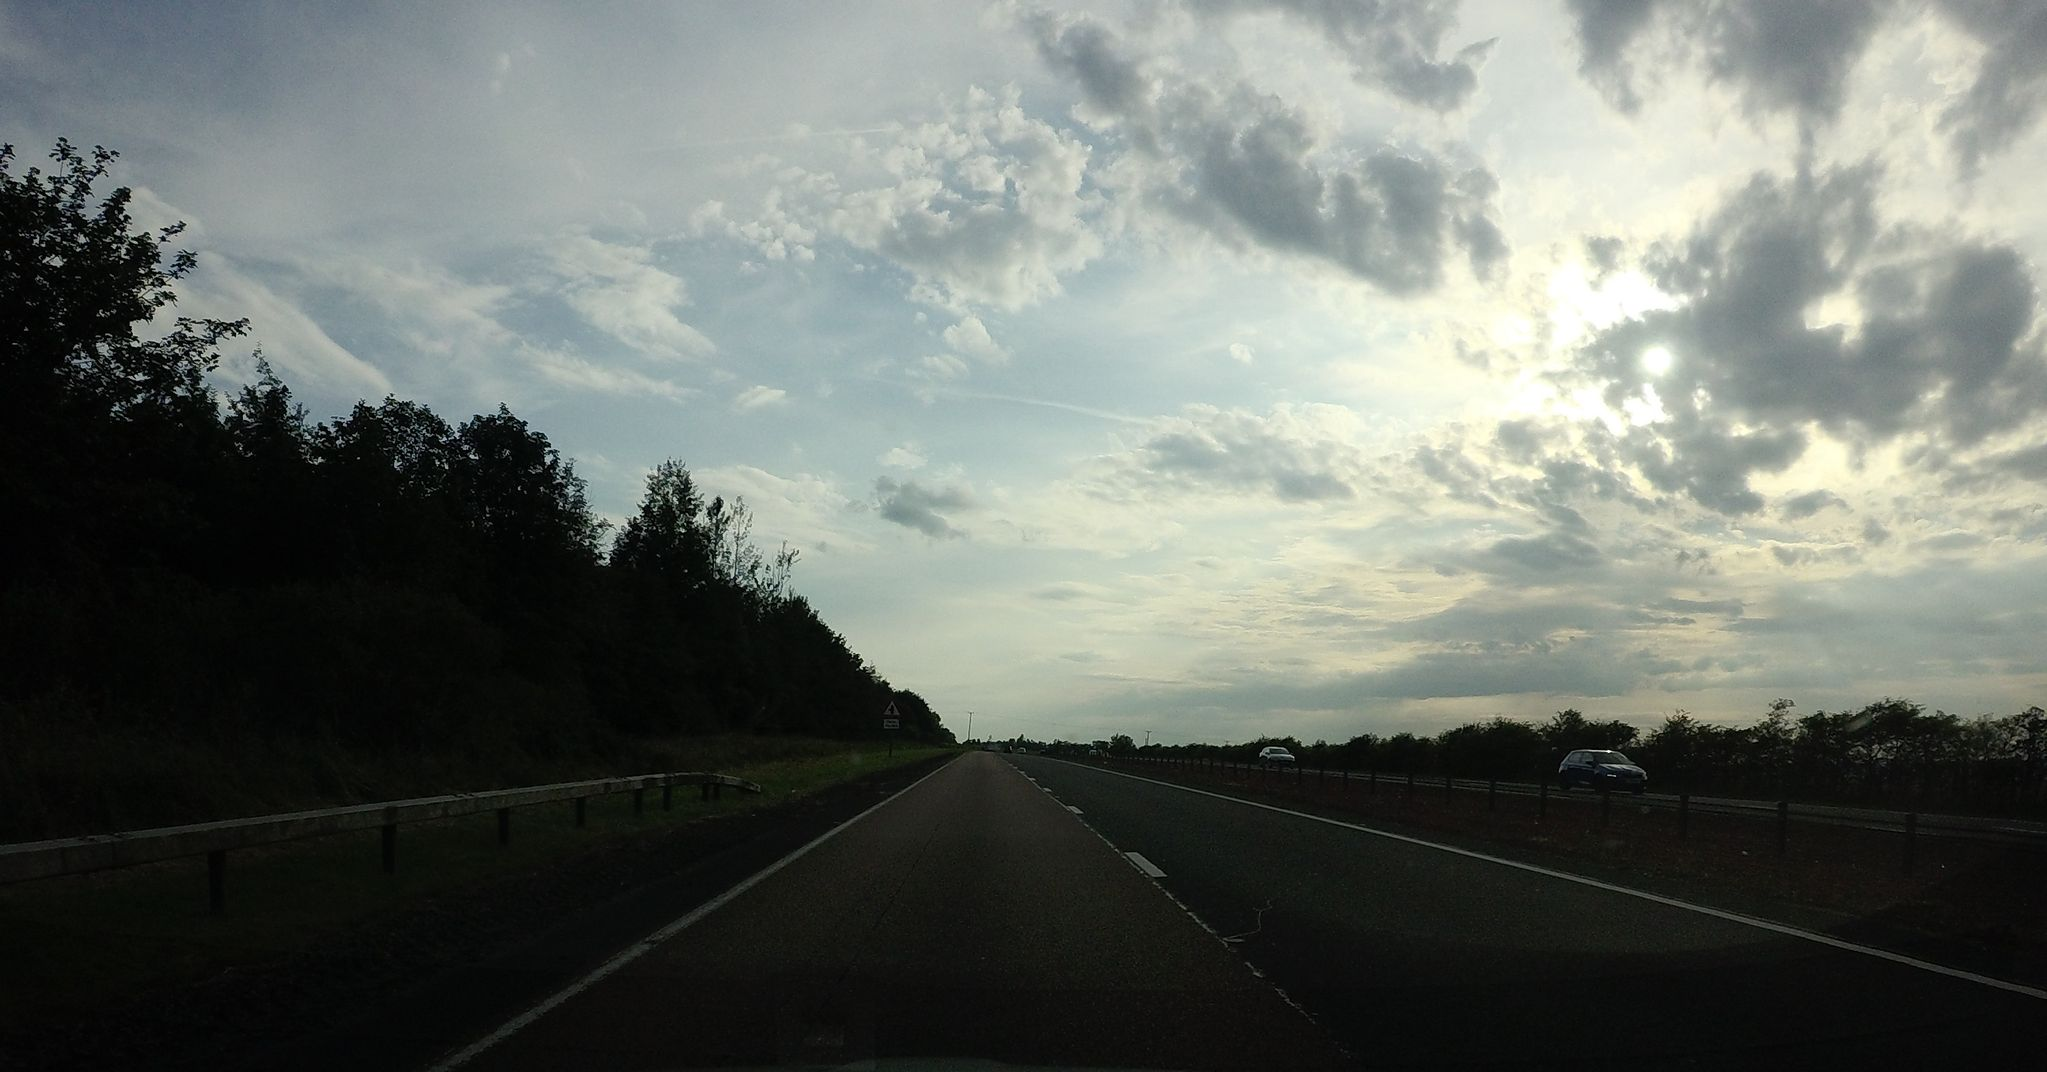car: (1557, 749, 1648, 795), (1258, 746, 1296, 767)
